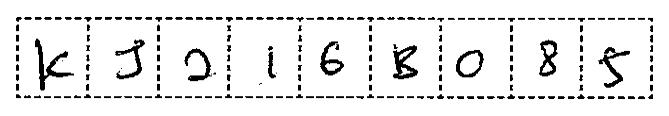0: (451, 46, 488, 82)
1: (253, 41, 286, 84)
2: (179, 40, 220, 86)
5: (590, 40, 634, 92)
6: (311, 36, 356, 82)
8: (533, 35, 564, 81)
A: (29, 33, 75, 94)
B: (384, 41, 425, 84)
J: (109, 36, 150, 86)
